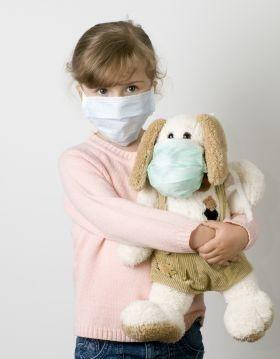OK: (81, 73, 153, 145)
